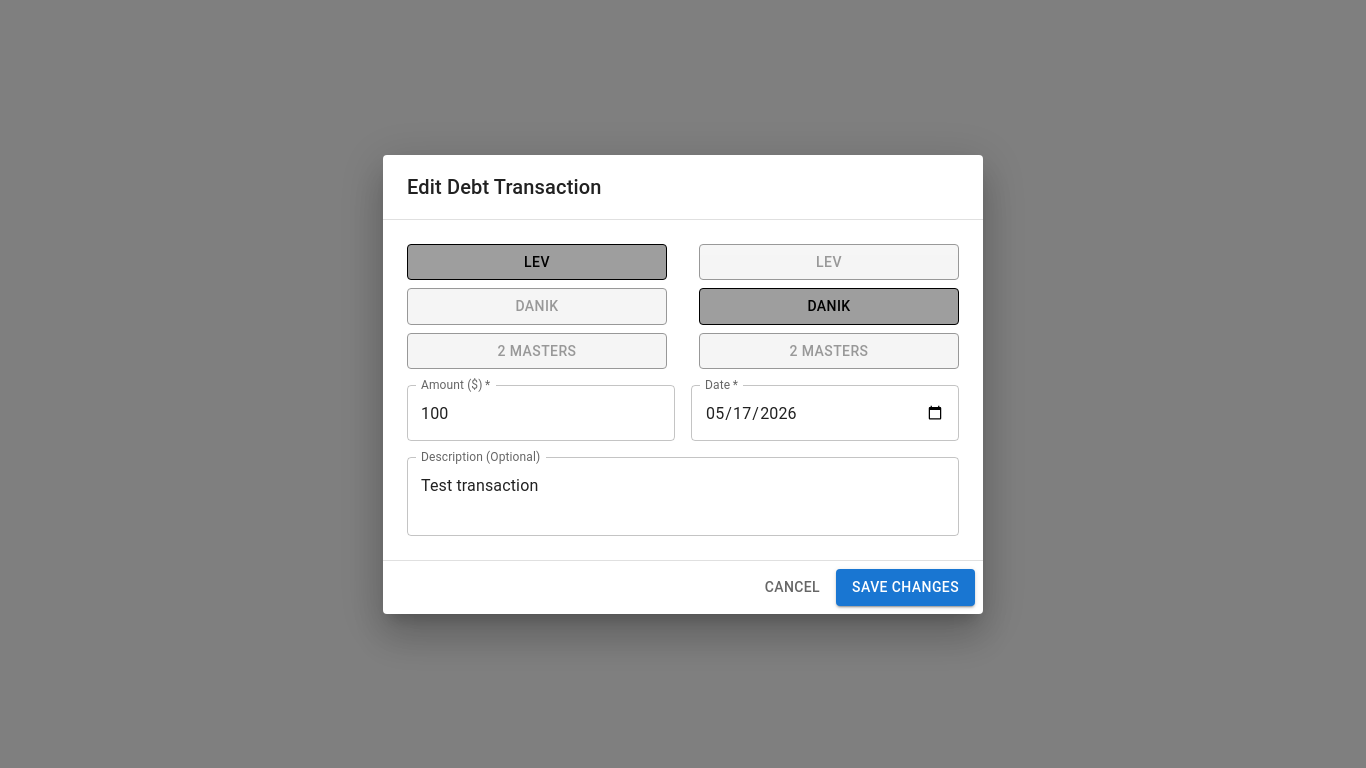
Test case: EditTransactionDialog › disables save button when form is invalid
The width and height of the screenshot is (1366, 768).
// Clear amount
Clear the number field labelled "Amount ($) *" at (541, 413), box [407,385,675,441]
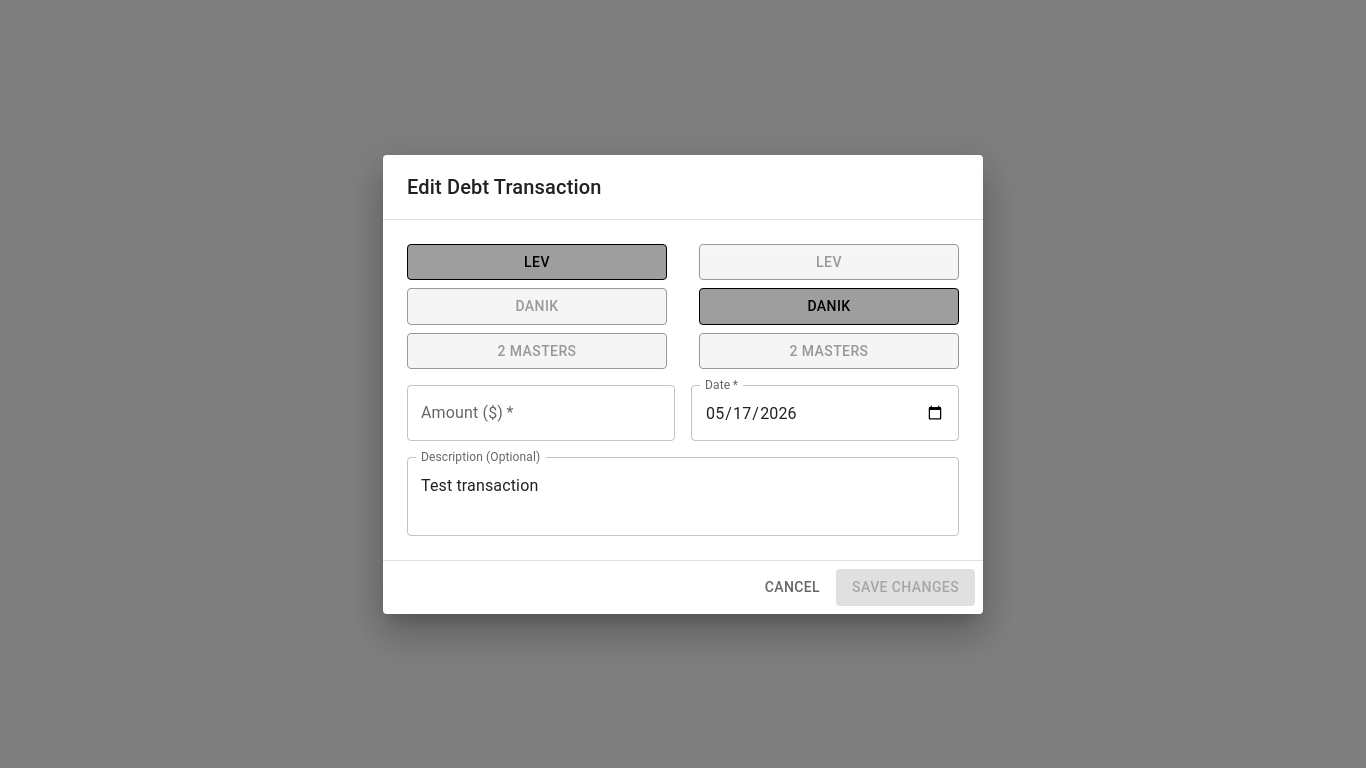
Now the button "Save Changes" is disabled, box [836,569,975,606]
